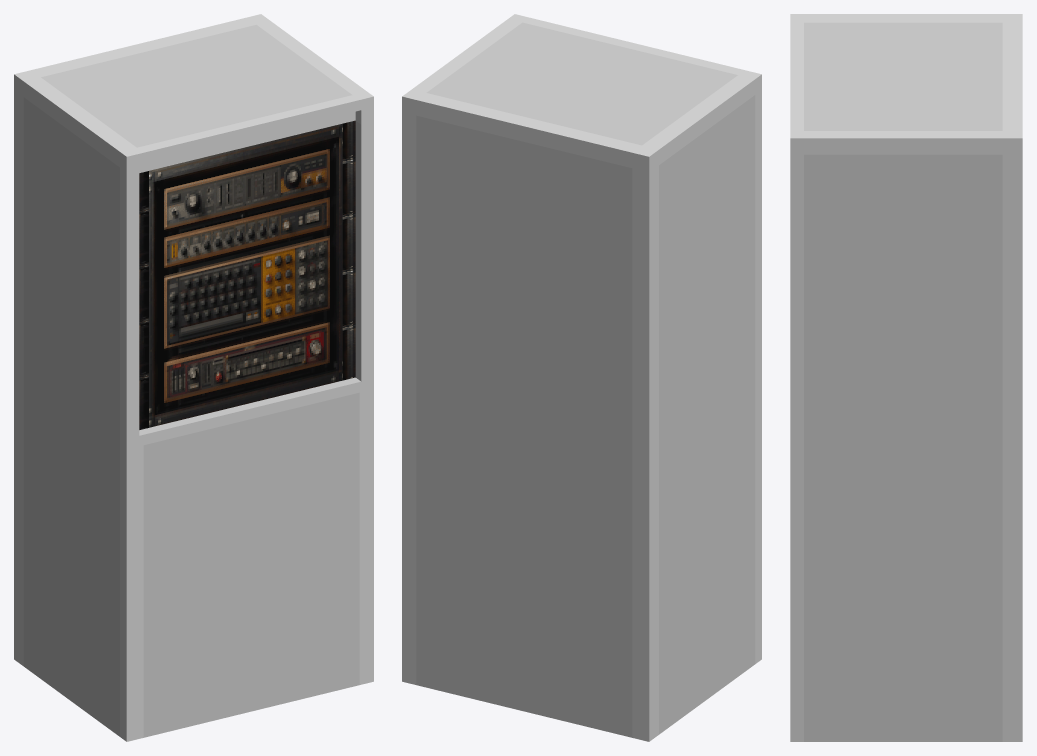
Rendered from ComputerRack04.fbx.
The picture shows the model from 3 angles, left to right: view 1: azimuth 30°, elevation 25°; view 2: azimuth 150°, elevation 25°; view 3: azimuth 270°, elevation 25°; orthographic projection. The views are drawn at different scales.
Parts seen in each view (by area): view 1: Ballastkontrolle.004; view 2: Ballastkontrolle.004; view 3: Ballastkontrolle.004.
Boxes of the visible parts, x1,y1,x2,y2 form: Ballastkontrolle.004: [14, 14, 373, 741]; Ballastkontrolle.004: [402, 14, 761, 741]; Ballastkontrolle.004: [790, 14, 1022, 741].
Bounding box in the file's own units: 40.72 × 92.12 × 32.18.
